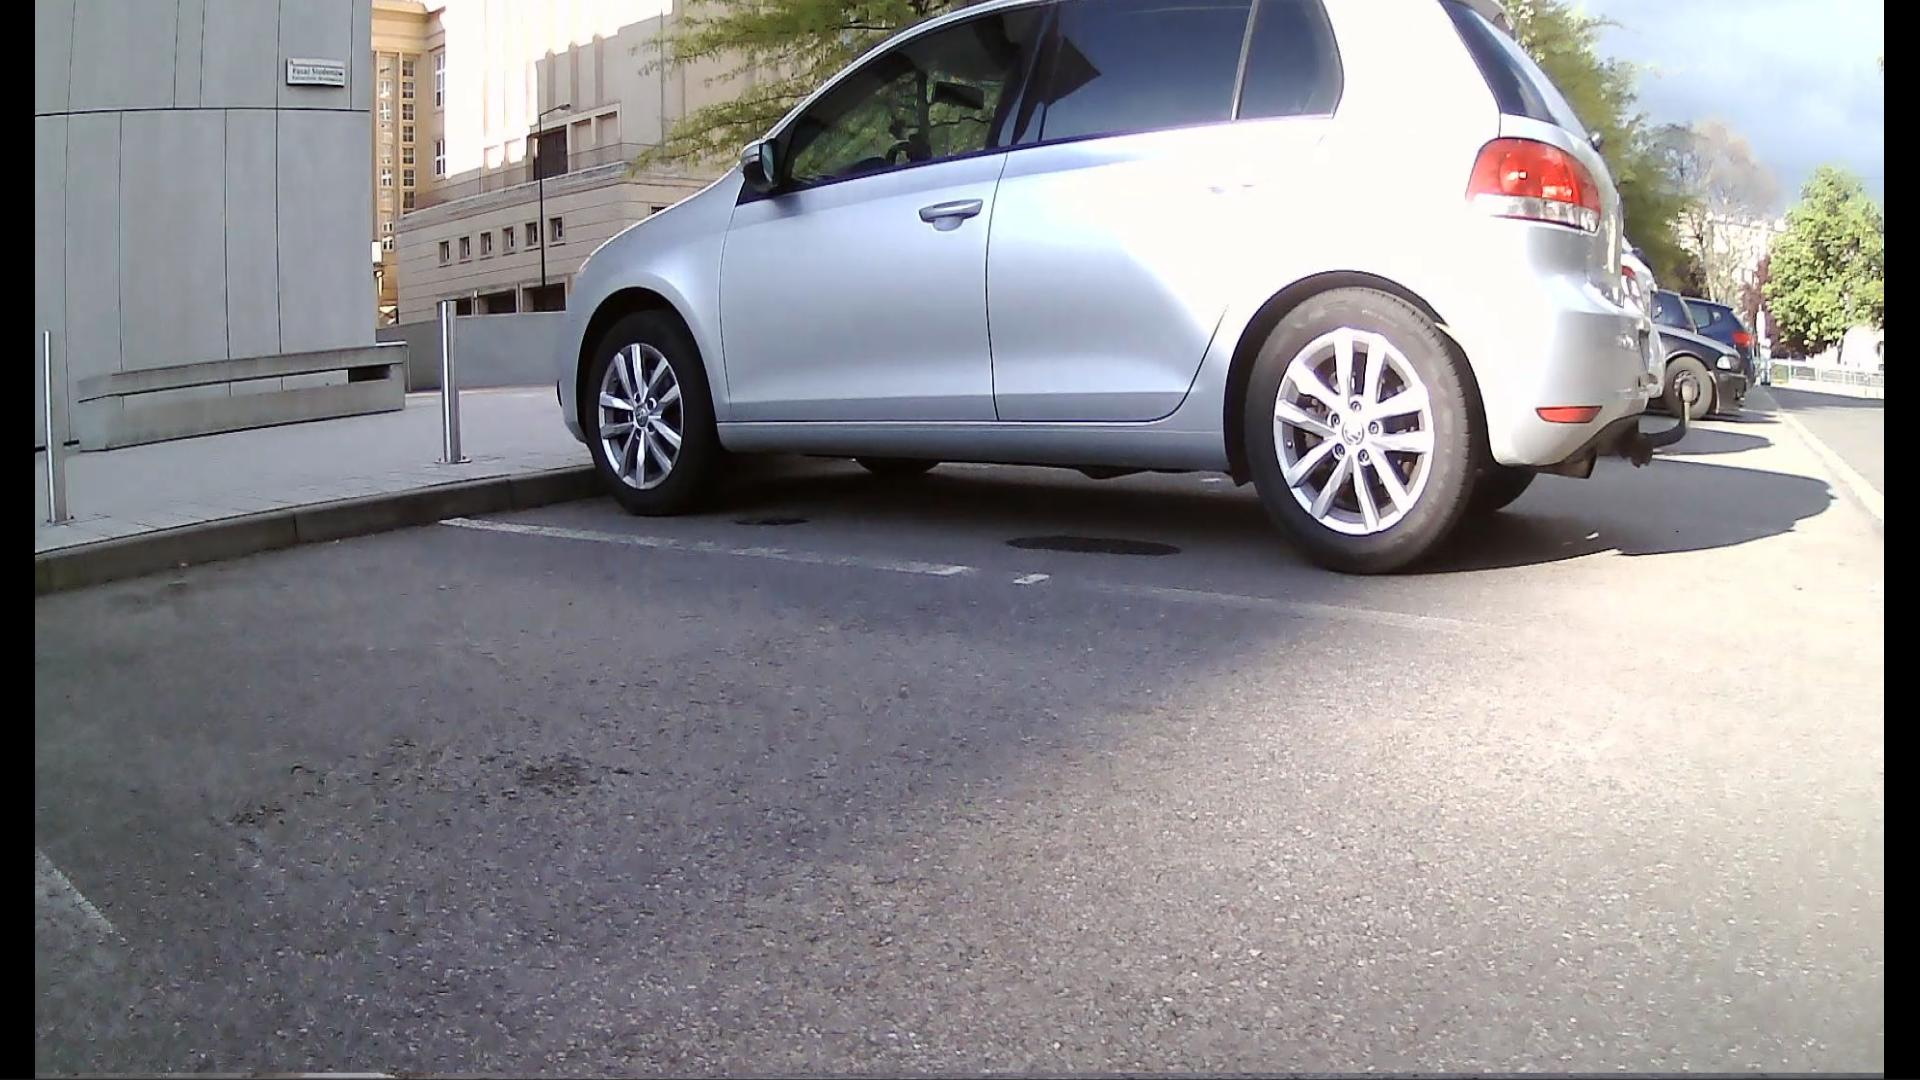car: (549, 0, 1660, 547)
